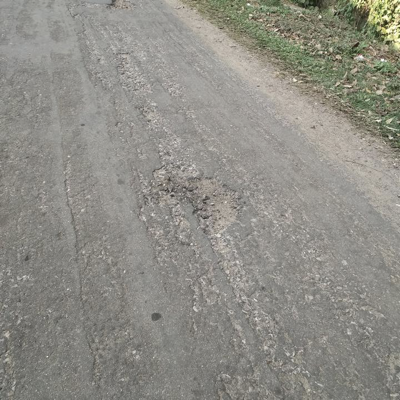pothole: (182, 175, 243, 238)
